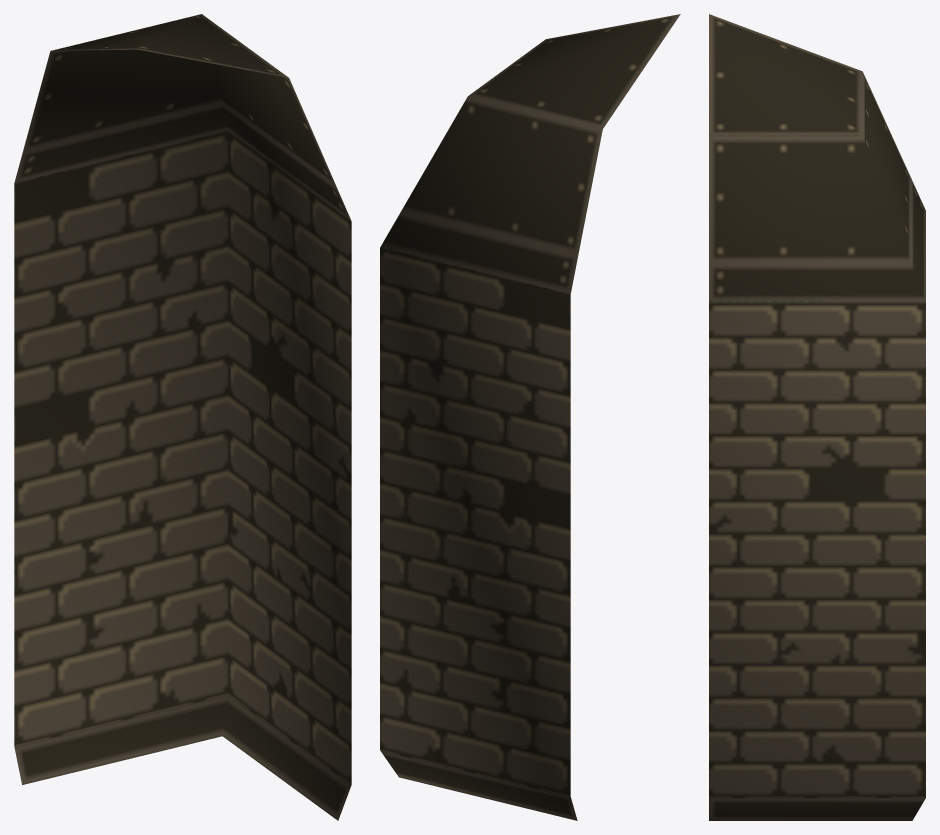
The model's file is SmallCorner.fbx.
3 renders of one model, left to right at view 1: azimuth 30°, elevation 25°; view 2: azimuth 150°, elevation 25°; view 3: azimuth 270°, elevation 25°, orthographic. The views are drawn at different scales.
Parts seen in each view (by area): view 1: SmallCorner; view 2: SmallCorner; view 3: SmallCorner.
Part boxes in pixels (<box>): SmallCorner: <box>14,14,351,820</box>; SmallCorner: <box>380,14,680,820</box>; SmallCorner: <box>709,14,925,820</box>.
Bounding box in the file's own units: 150 × 550 × 150.
